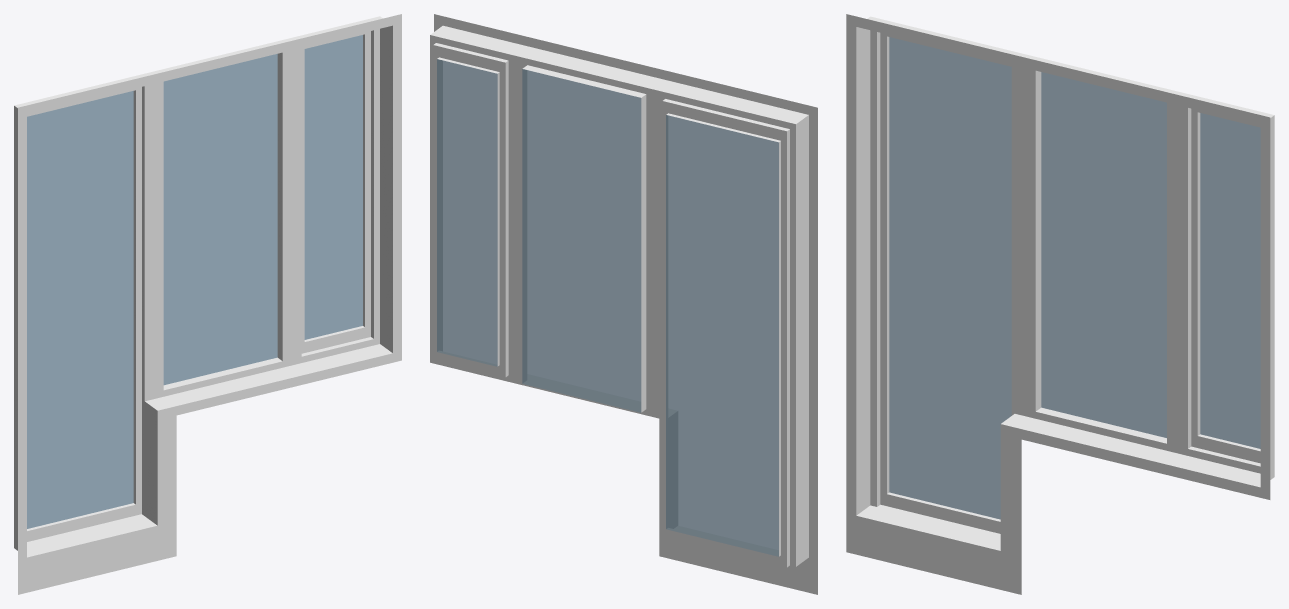
Rendered from p-44-window-balkon-1.fbx.
3 renders of one model, left to right at view 1: azimuth 30°, elevation 25°; view 2: azimuth 150°, elevation 25°; view 3: azimuth 330°, elevation 25°, orthographic. The views are drawn at different scales.
Parts seen in each view (by area): view 1: window-balkon-1; view 2: window-balkon-1; view 3: window-balkon-1.
Part boxes in pixels (bbox=[...]): window-balkon-1: bbox=[14, 14, 401, 594]; window-balkon-1: bbox=[430, 14, 817, 594]; window-balkon-1: bbox=[846, 14, 1274, 594].
Bounding box in the file's own units: 190 × 230 × 15.32.
